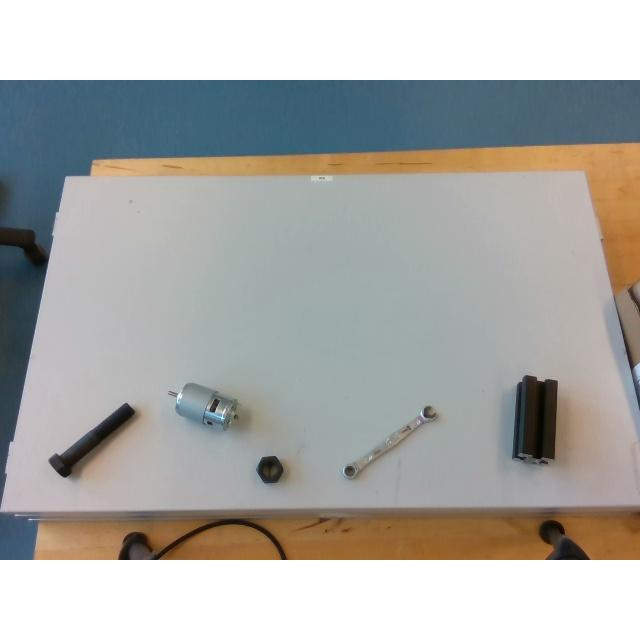M20: (256, 455, 284, 483)
M20_100: (48, 403, 136, 477)
Motor2: (168, 383, 240, 433)
S40_40_B: (513, 374, 557, 462)
Wrench: (340, 405, 440, 479)
